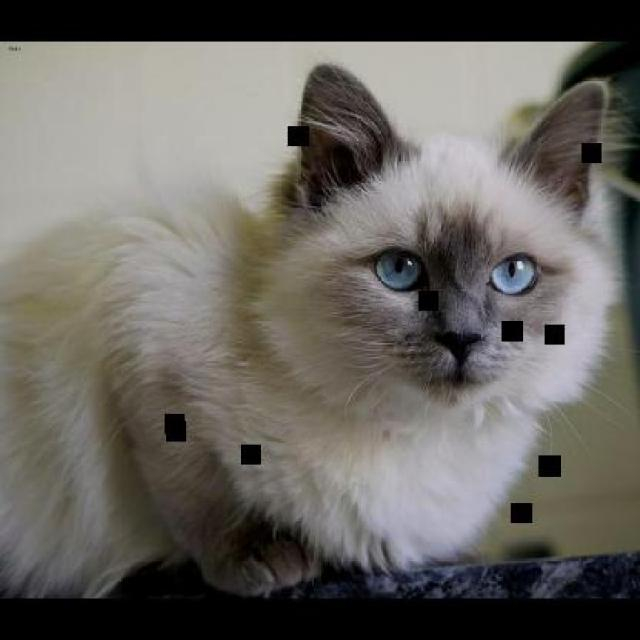unauthorized: (0, 59, 638, 598)
